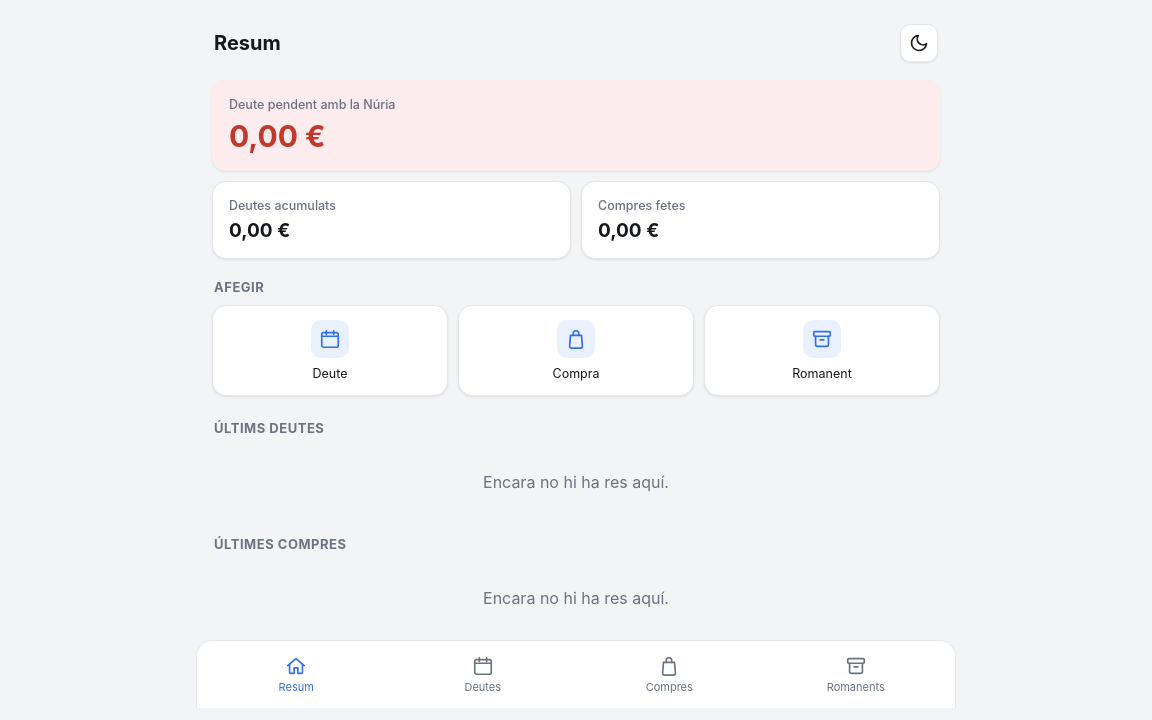
App (integració) › obre el modal d'afegir directament des de les targetes ràpides del Resum
This screenshot has width=1152, height=720.
Click the button "Compra" at x=576, y=350, box [458,305,694,396]
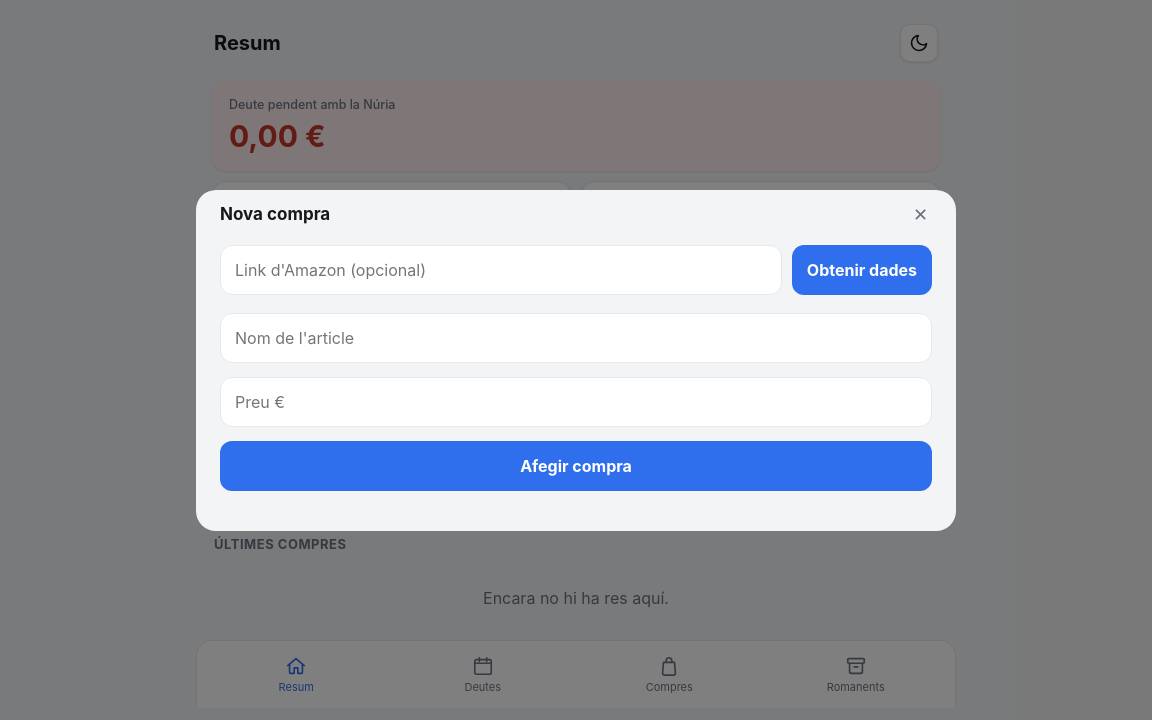
Check: the heading "Resum" is shown, box [214,31,281,55]
Check: the dialog "Nova compra" is shown, box [196,190,956,530]
Click the button named "Tancar" at x=920, y=214, box [909,200,932,228]
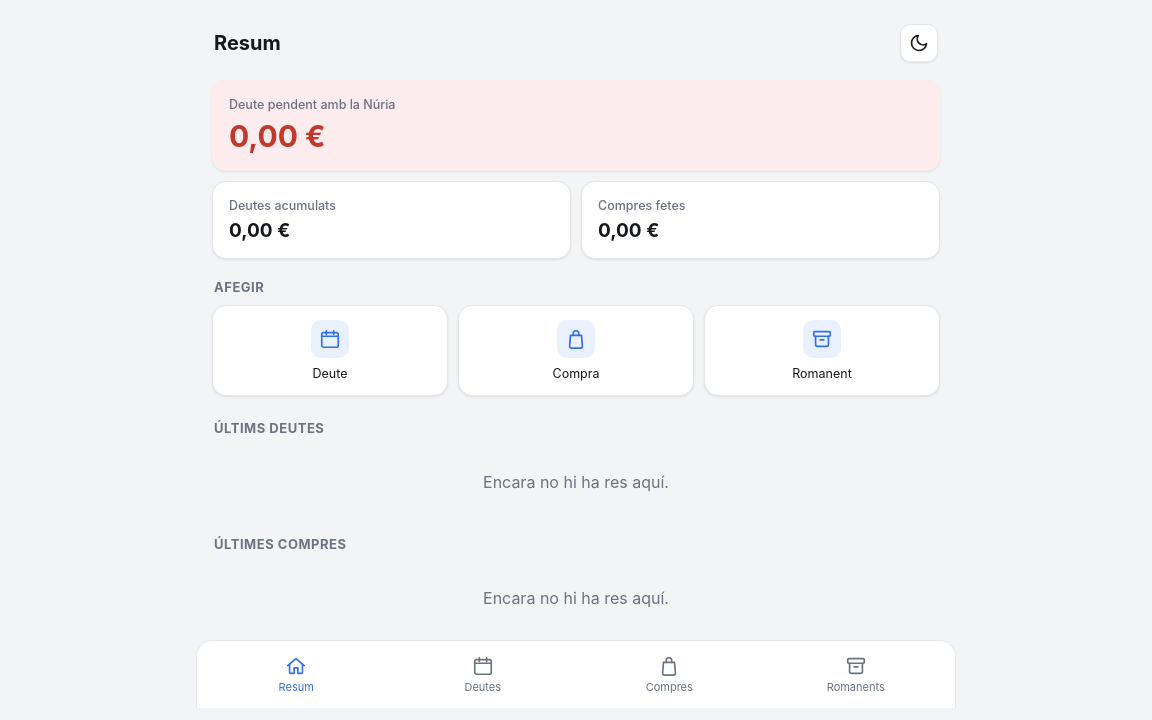
Check: the dialog is gone
